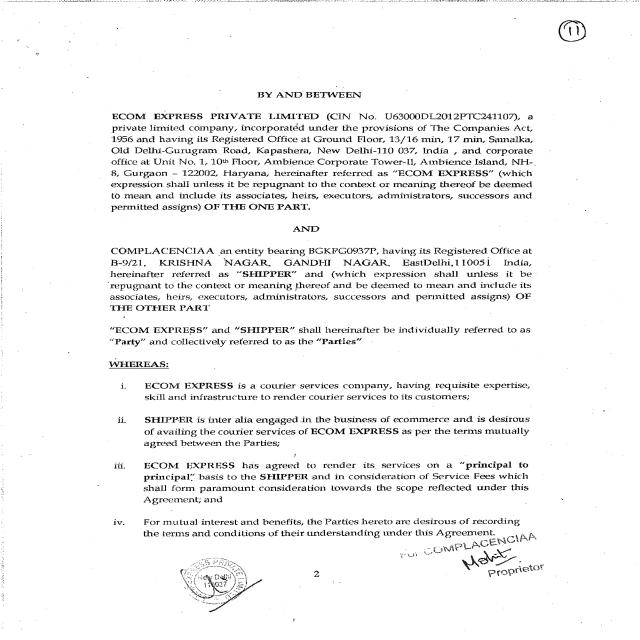page-number: (446, 4, 636, 85)
